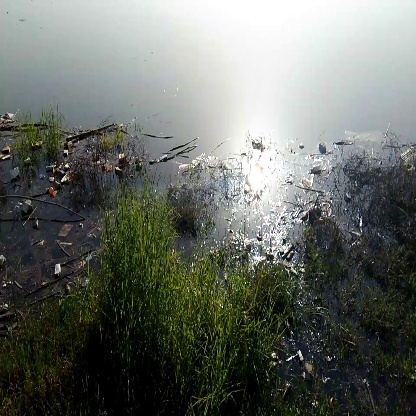branch: (66, 118, 126, 146)
